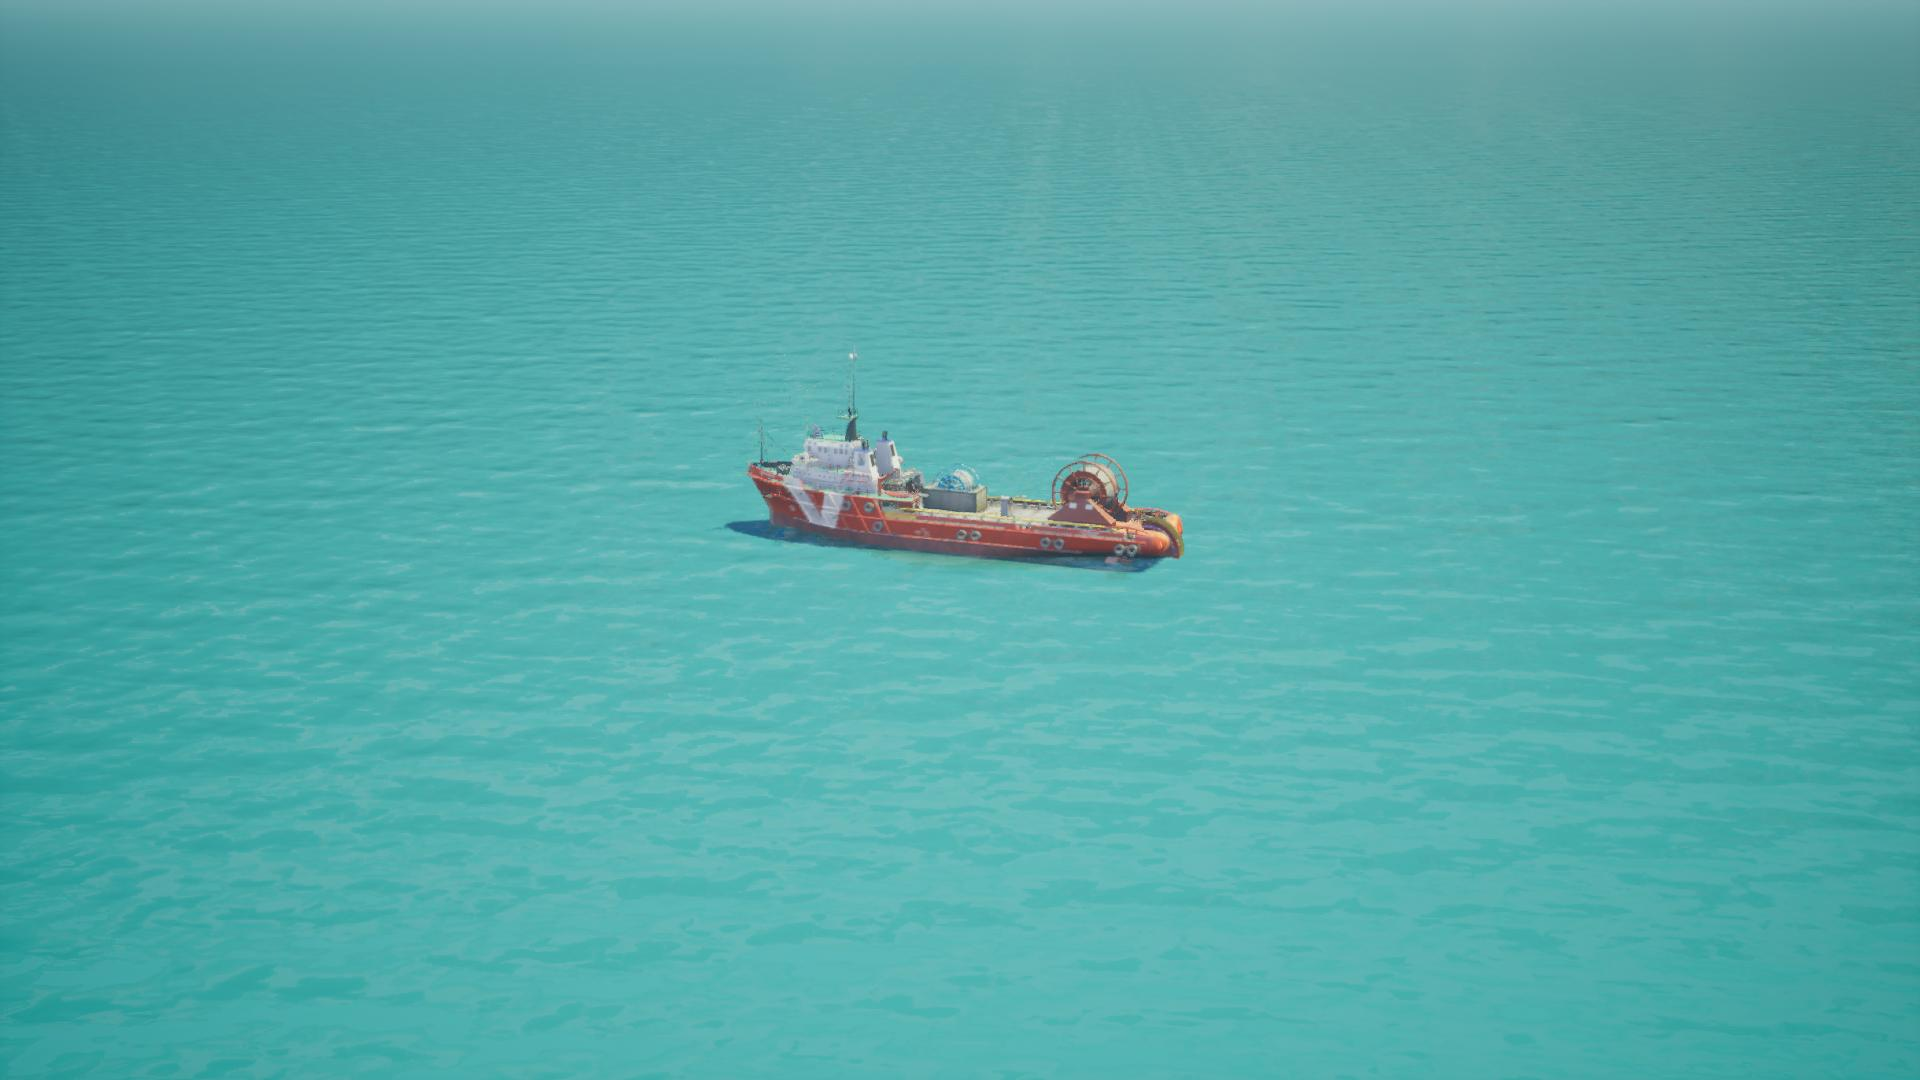Tug Boat: (735, 345, 1187, 579)
